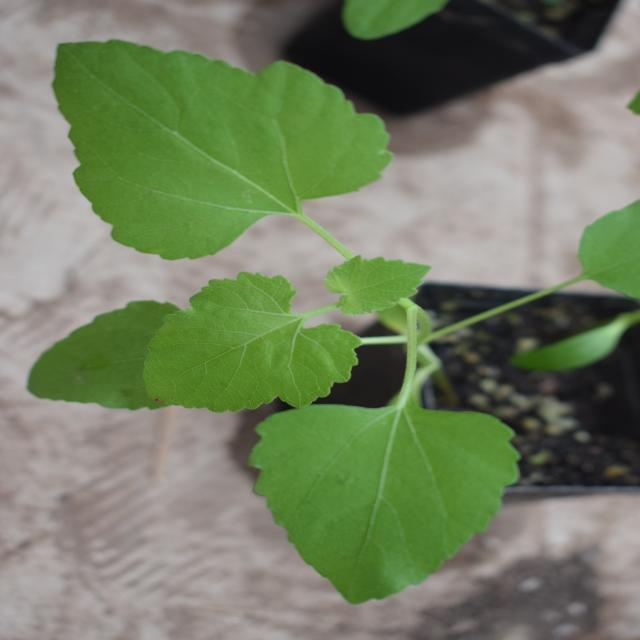cocklebur: (24, 141, 627, 562)
